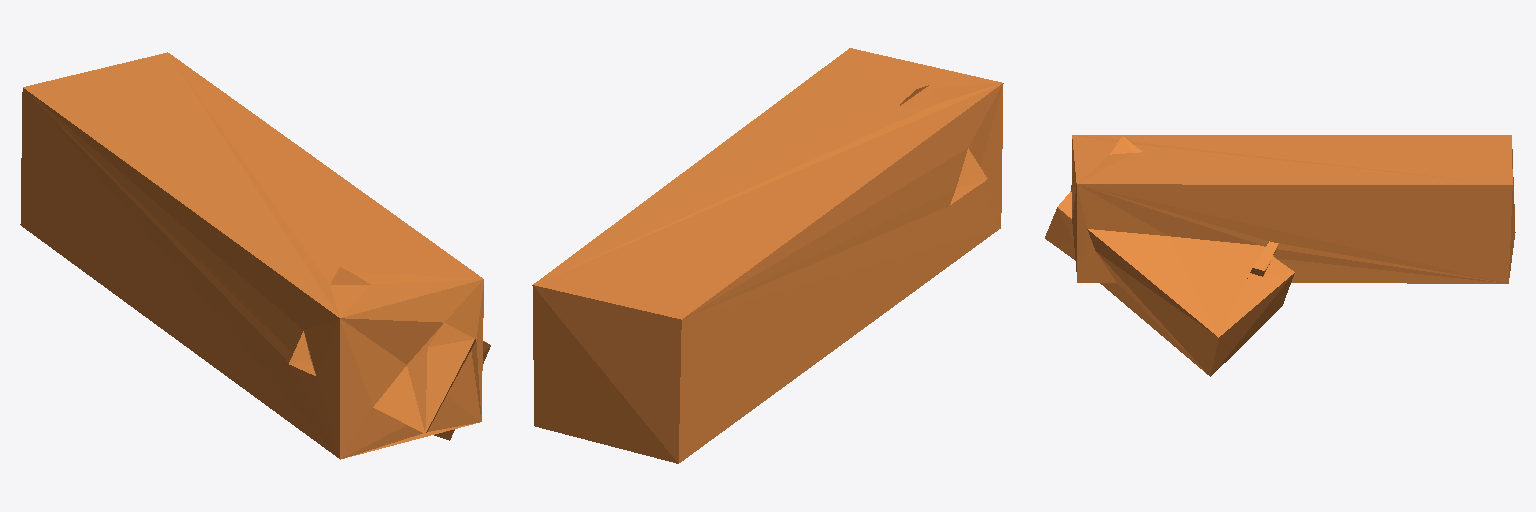
URDF robot description (blob995):

<robot name="blob995">
  <link name="random_obj_995">
    <contact>
      <lateral_friction value="1.0"/>
      <rolling_friction value="0.0"/>
      <inertia_scaling value="3.0"/>
      <contact_cfm value="0.0"/>
      <contact_erp value="1.0"/>
    </contact>
    <inertial>
      <origin rpy="0 0 0" xyz="0 0 0"/>
      <mass value="0.1073"/>
      <inertia ixx="1" ixy="0" ixz="0" iyy="1" iyz="0" izz="0"/>
    </inertial>
    <visual>
      <origin rpy="0 0 0" xyz="0 0 0"/>
      <geometry>
        <mesh filename="995.obj" scale="0.0081 0.0081 0.0081"/>
      </geometry>
      <material name="blockmat">
        <color rgba="0.92 0.58 0.30 1"/>
      </material>
    </visual>
    <collision>
      <origin rpy="0 0 0" xyz="0 0 0"/>
      <geometry>
        <mesh filename="995_coll.obj" scale="0.0081 0.0081 0.0081"/>
      </geometry>
    </collision>
  </link>
</robot>

--- Facts derived from the render (not from the file) ---
Views: 3 orthographic renders of the robot side by side, from view 1: azimuth 30°, elevation 25°; view 2: azimuth 150°, elevation 25°; view 3: azimuth 270°, elevation 25°.
Model blob995 with 1 links and 0 joints (none), rooted at random_obj_995, posed all joints at 0.
Visible links, largest first — view 1: random_obj_995; view 2: random_obj_995; view 3: random_obj_995.
Link boxes in pixels (bbox=[...]): random_obj_995: bbox=[20, 52, 490, 459]; random_obj_995: bbox=[532, 48, 1003, 463]; random_obj_995: bbox=[1045, 135, 1515, 376].
Bounding box of the posed robot: 0.0489 × 0.1044 × 0.0446 m (x, y, z).
1 mesh visuals loaded from 1 distinct referenced files (1 OBJ).
